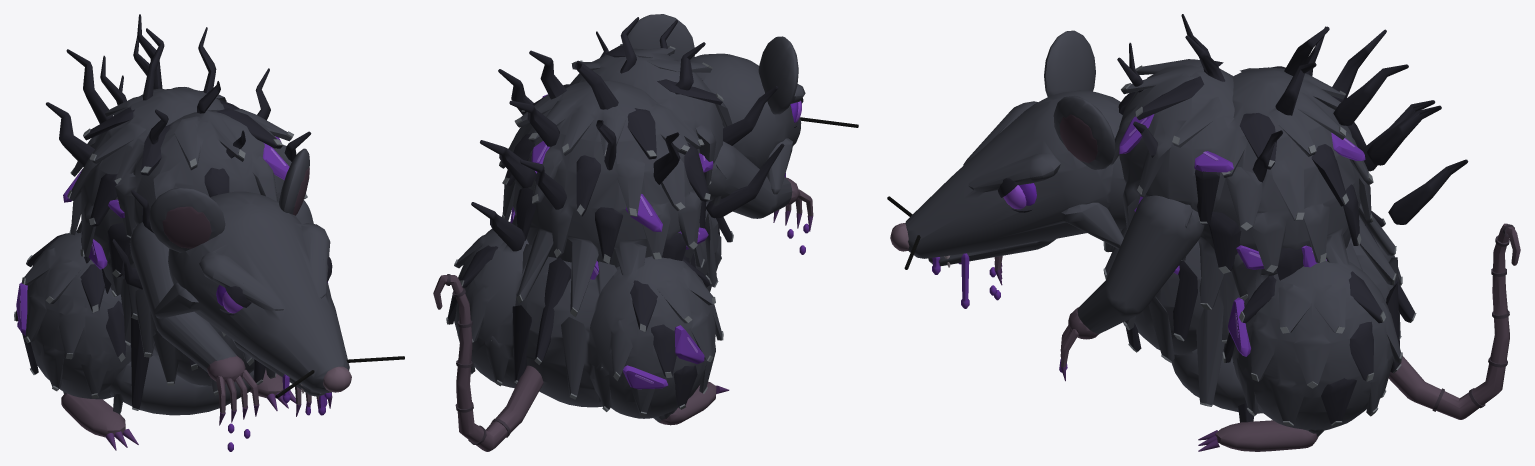
File: toxshade.glb
3 renders of one model, left to right at view 1: azimuth 30°, elevation 25°; view 2: azimuth 150°, elevation 25°; view 3: azimuth 270°, elevation 25°, orthographic. The views are drawn at different scales.
Visible parts, largest first — view 1: creature; view 2: creature; view 3: creature.
Boxes of the visible parts, bbox=[...] form: creature: bbox=[14, 14, 404, 451]; creature: bbox=[433, 14, 858, 451]; creature: bbox=[887, 14, 1520, 451].
Size of the model in its own units: 0.7469 by 1 by 1.51.
